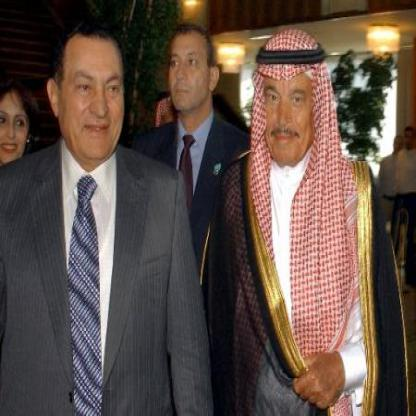face: (58, 26, 128, 164), (259, 44, 320, 169), (168, 31, 213, 116), (1, 91, 31, 167)
